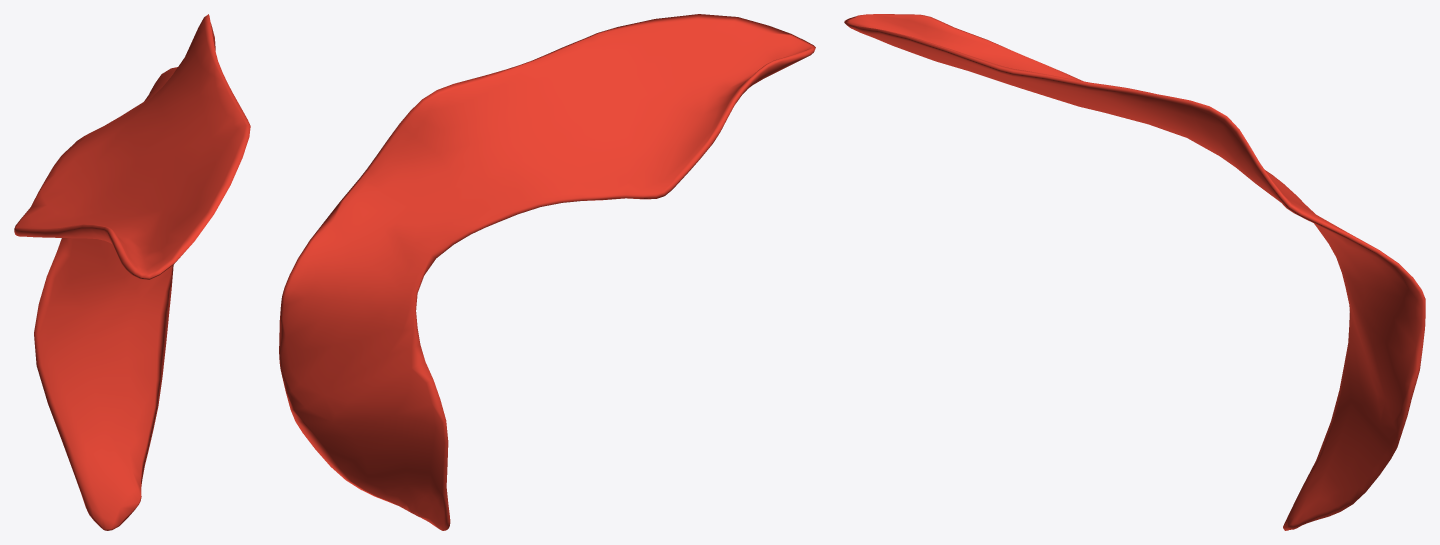
The model's file is Piriformis_muscle_on_pelvic_surface_of_sacrum.r_Generated_Mesh_.glb.
3 views of the same model, side by side, from view 1: azimuth 30°, elevation 25°; view 2: azimuth 150°, elevation 25°; view 3: azimuth 270°, elevation 25° (orthographic). The views are drawn at different scales.
Visible parts, largest first — view 1: Piriformis_muscle_on_pelvic_surface_of_sacrum.r_Generated_Me; view 2: Piriformis_muscle_on_pelvic_surface_of_sacrum.r_Generated_Me; view 3: Piriformis_muscle_on_pelvic_surface_of_sacrum.r_Generated_Me.
Part boxes in pixels (x1,y1,x2,y2): Piriformis_muscle_on_pelvic_surface_of_sacrum.r_Generated_Me: (14,14,250,530); Piriformis_muscle_on_pelvic_surface_of_sacrum.r_Generated_Me: (279,14,815,530); Piriformis_muscle_on_pelvic_surface_of_sacrum.r_Generated_Me: (844,14,1425,530).
Size of the model in its own units: 0.0228 by 0.0316 by 0.0369.
